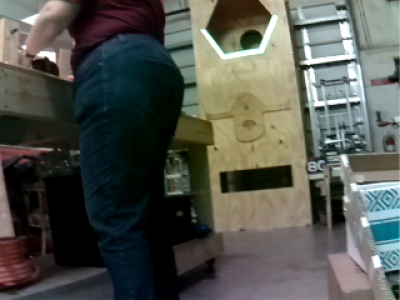target: (201, 14, 280, 60)
